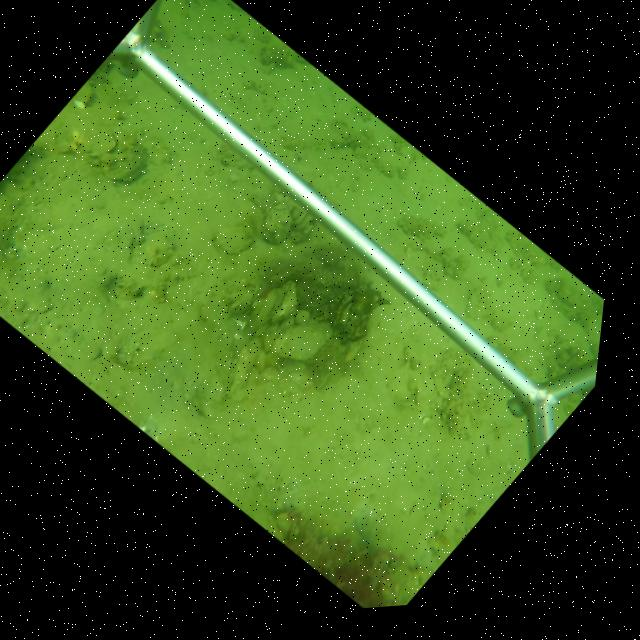Oyster-Closed: (220, 336, 261, 402), (267, 322, 331, 363), (225, 278, 264, 317), (270, 281, 299, 323), (345, 340, 363, 363)
Oyster-Indeterminate: (101, 130, 151, 186), (260, 200, 292, 245)
